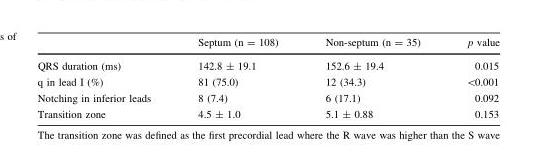table: (36, 37, 499, 119)
table column: (301, 37, 442, 119), (36, 37, 173, 119), (173, 37, 301, 119), (442, 37, 499, 119)
table column header: (36, 37, 499, 54)
table row: (36, 54, 499, 73), (36, 37, 499, 54), (36, 73, 499, 90), (36, 90, 499, 106), (36, 106, 499, 119)
